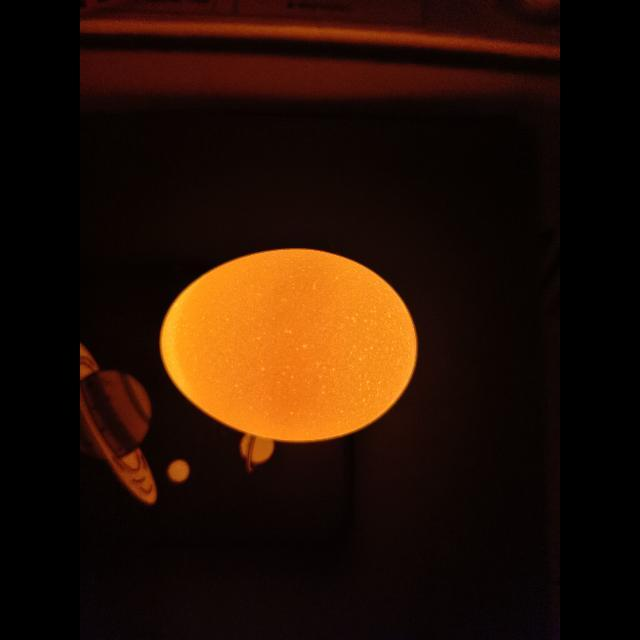AA - Premium: (160, 249, 418, 443)
